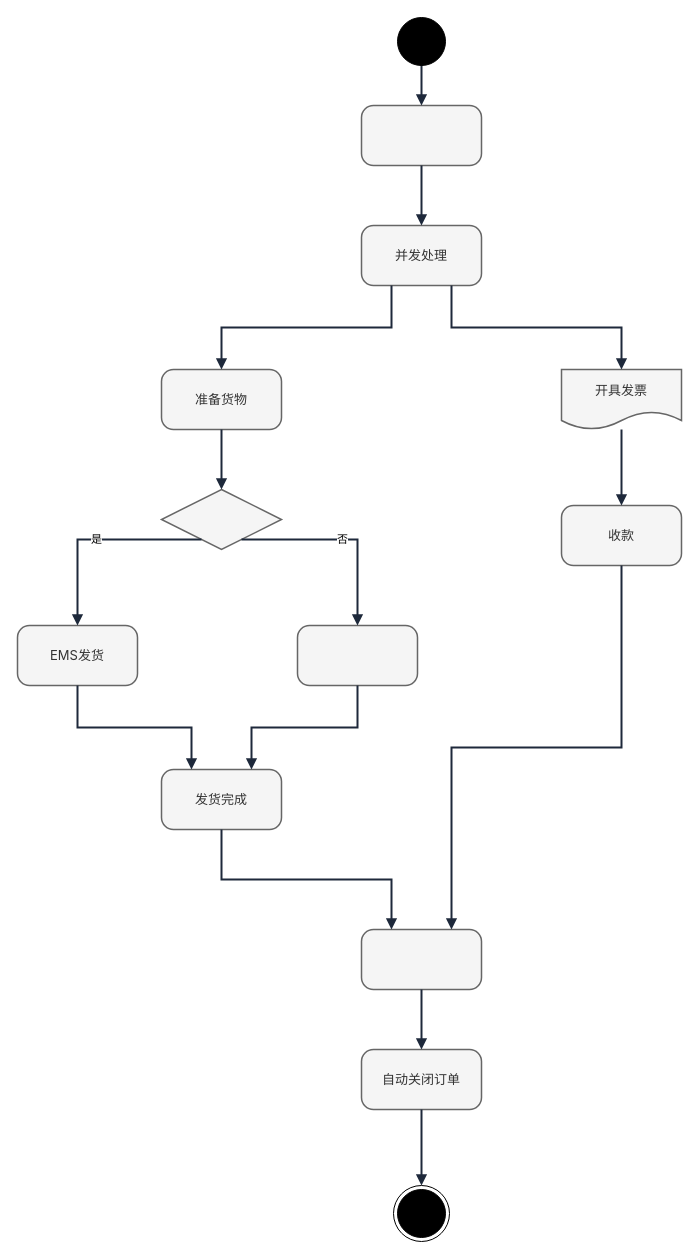
The diagram is 700 pixels wide and 1259 high, and some of its shapes have lost their labels. The centre of each missing label's shape, as x and y in pixels:
"两路完成" belongs at point (421, 959).
"接到用户订单" belongs at point (421, 135).
"是否加急？" belongs at point (221, 519).
"普通包裹发货" belongs at point (357, 655).
